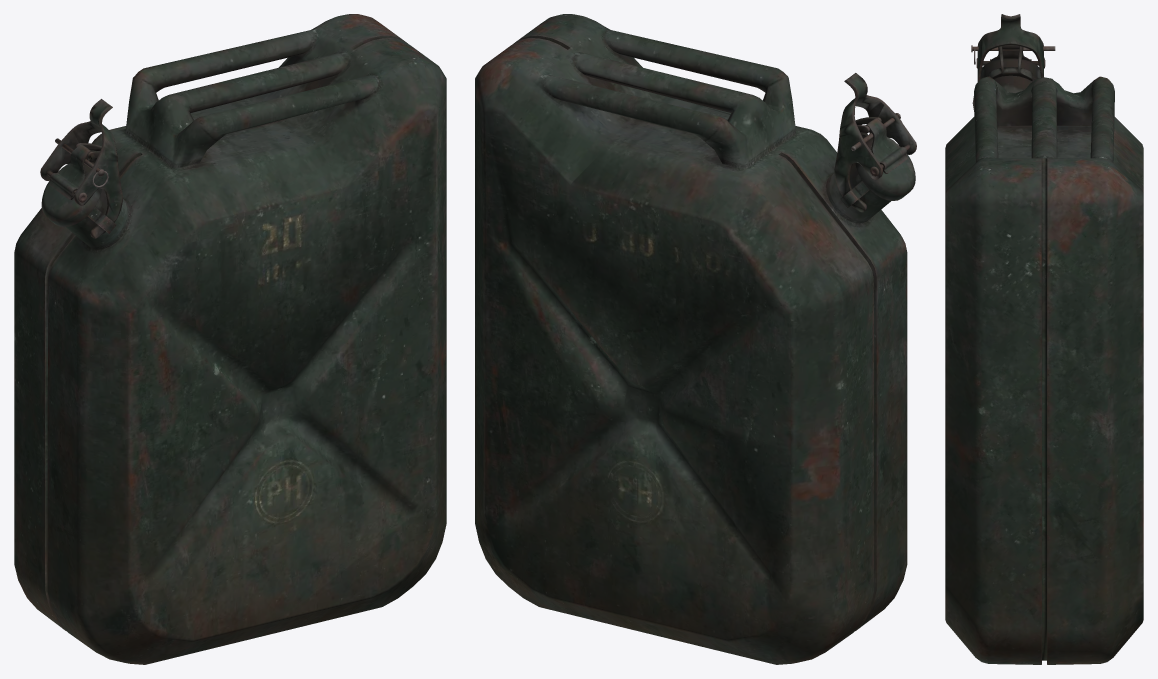
File: metal_jerrycan_green.glb
3 views of the same model, side by side, from view 1: azimuth 30°, elevation 25°; view 2: azimuth 150°, elevation 25°; view 3: azimuth 270°, elevation 25° (orthographic). The views are drawn at different scales.
Visible parts, largest first — view 1: metal_jerrycan_green_body, metal_jerrycan_green_latch, metal_jerrycan_green_cap; view 2: metal_jerrycan_green_body, metal_jerrycan_green_latch, metal_jerrycan_green_cap; view 3: metal_jerrycan_green_body, metal_jerrycan_green_latch, metal_jerrycan_green_cap, metal_jerrycan_green_fastener.
Boxes of the visible parts, x1,y1,x2,y2 form: metal_jerrycan_green_body: (14,14,446,664); metal_jerrycan_green_latch: (40,99,122,238); metal_jerrycan_green_cap: (41,144,101,227); metal_jerrycan_green_body: (475,14,907,664); metal_jerrycan_green_latch: (834,73,916,212); metal_jerrycan_green_cap: (855,118,915,200); metal_jerrycan_green_body: (945,75,1143,664); metal_jerrycan_green_latch: (976,14,1045,81); metal_jerrycan_green_cap: (980,45,1040,79); metal_jerrycan_green_fastener: (989,46,1032,81).
Bounding box in the file's own units: 0.3604 × 0.4998 × 0.1709.
1 material, 1 textured.
